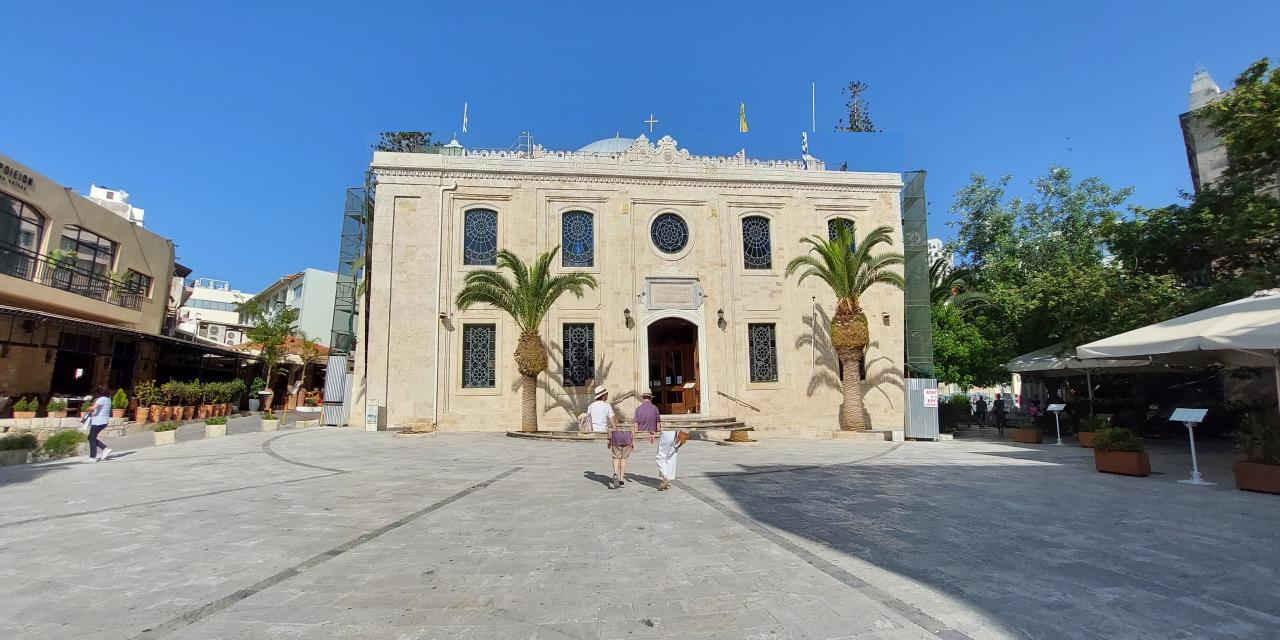Agios Titos: (366, 133, 905, 432)
